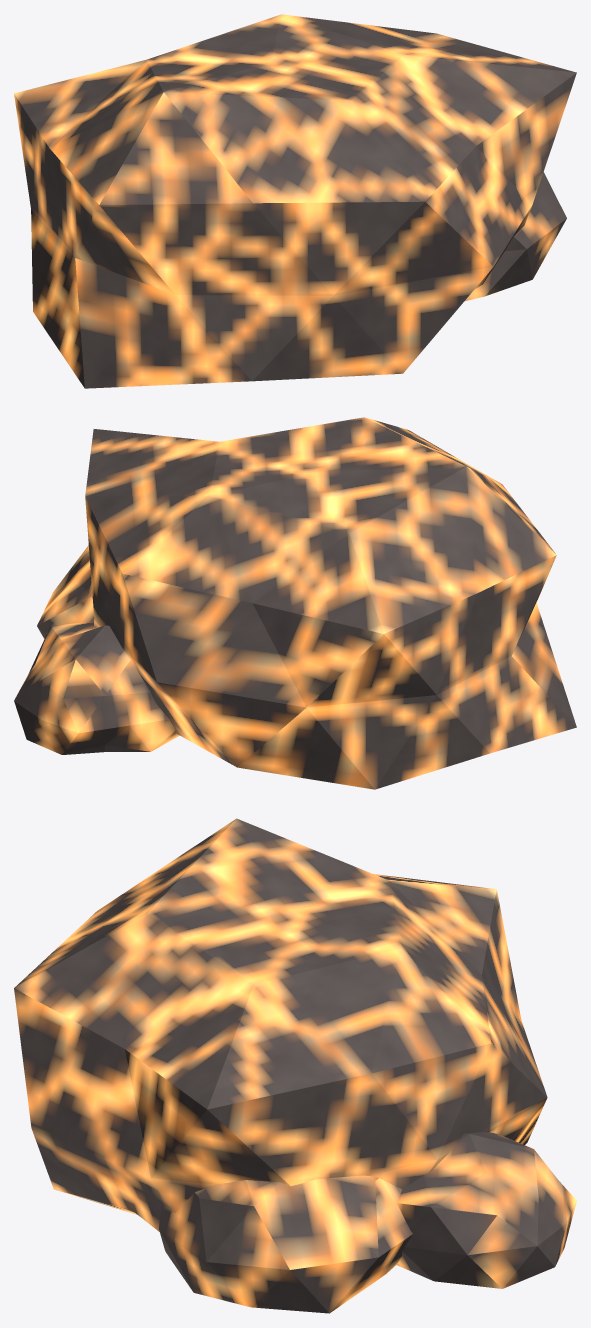
File: slag_chunk_b.gltf
The picture shows the model from 3 angles, top to bottom: view 1: azimuth 30°, elevation 25°; view 2: azimuth 150°, elevation 25°; view 3: azimuth 270°, elevation 25°; orthographic projection. The views are drawn at different scales.
Parts seen in each view (by area): view 1: slag_chunk_b; view 2: slag_chunk_b; view 3: slag_chunk_b.
Part boxes in pixels (x1,y1,x2,y2): slag_chunk_b: (14, 14, 576, 388); slag_chunk_b: (14, 417, 576, 789); slag_chunk_b: (14, 818, 576, 1313).
Bounding box in the file's own units: 1.16 × 0.5759 × 1.02.
1 material, 1 textured.
